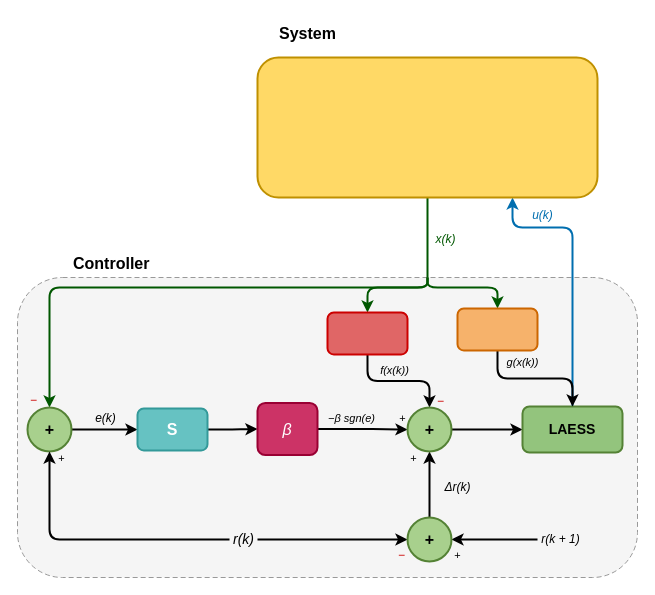
This 655x595 diagram has some shape labels left out. Each missing label, with the box of its shape:
f(x): (326, 311, 408, 355)
g(x): (456, 307, 538, 351)
x(k+1) = x(k) + τ[ f(x(k)) + g(x(k))u(k) ] + p(k), x(1) = x 1: (256, 56, 598, 198)
